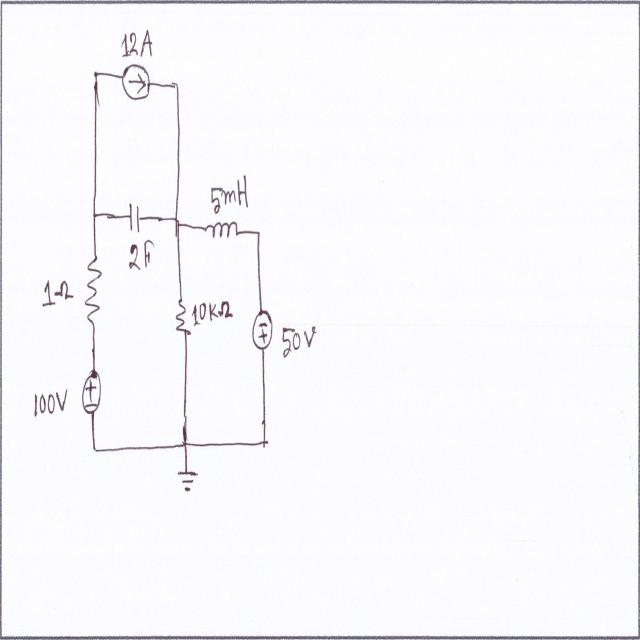capacitor: (126, 200, 142, 233)
current_source: (121, 62, 152, 102)
ground: (176, 466, 200, 499)
inductor: (204, 220, 238, 247)
resistor: (83, 257, 104, 324), (176, 294, 192, 342)
voltage_source: (250, 310, 276, 352), (80, 371, 104, 414)
